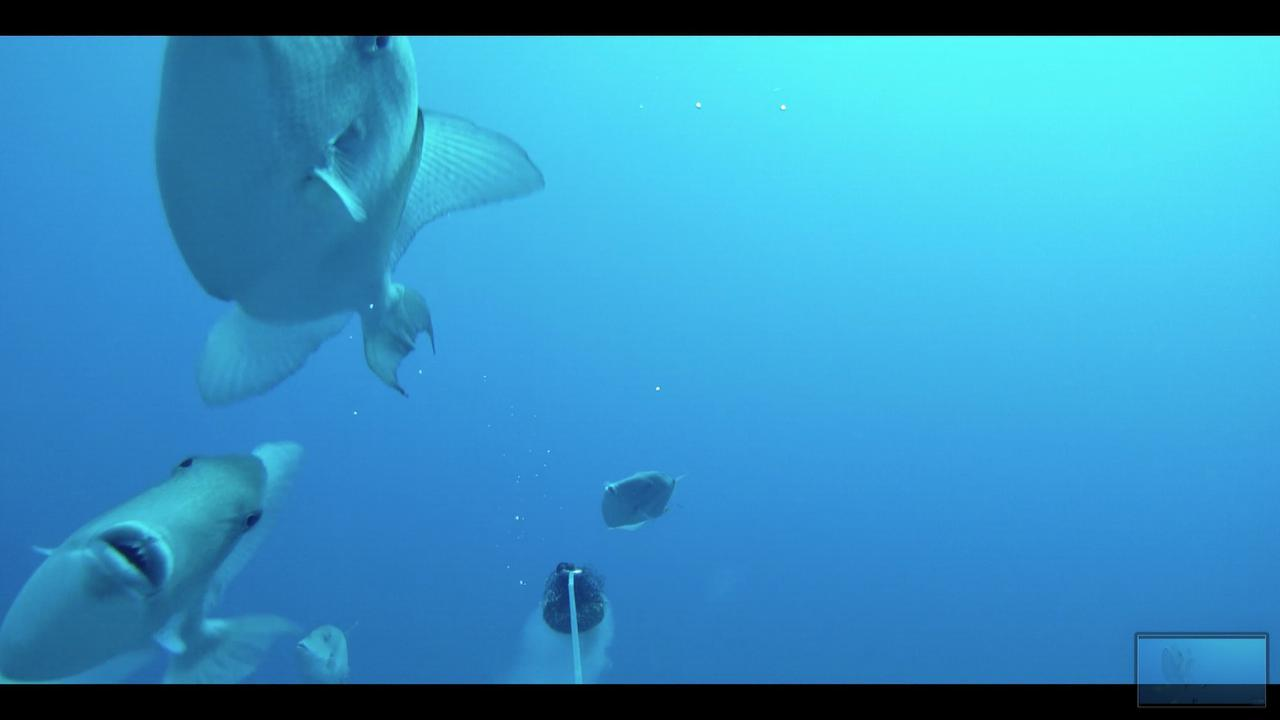balistes: (140, 34, 547, 411), (3, 433, 318, 687), (597, 463, 687, 534), (289, 610, 375, 683)
